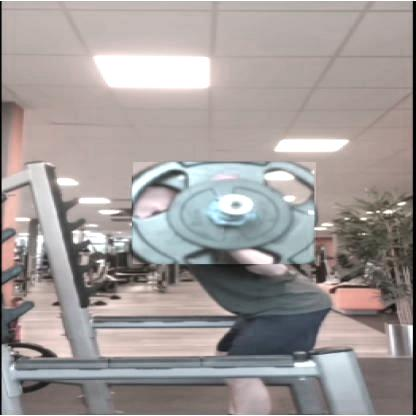barbell: (134, 163, 317, 265)
